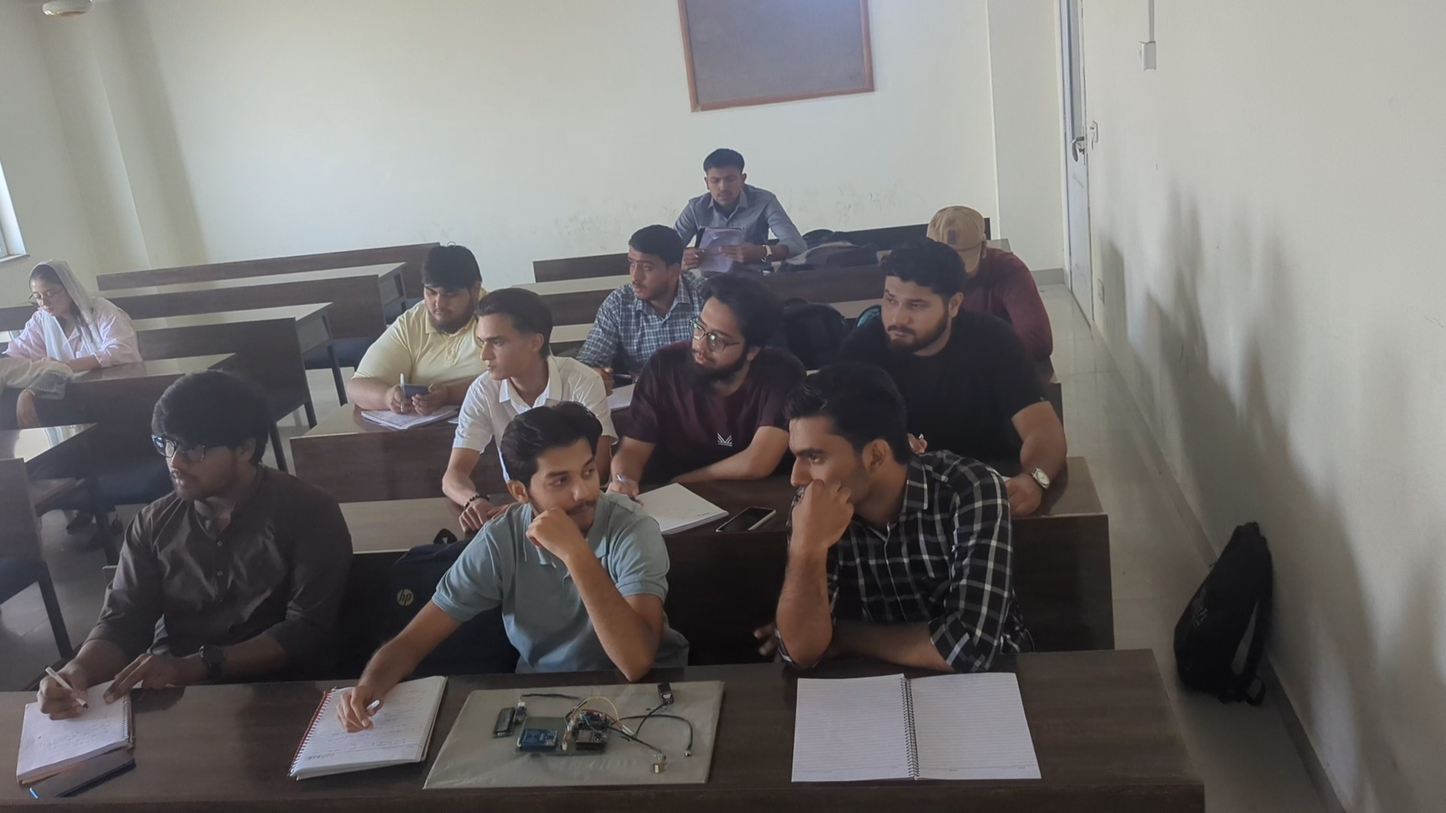look_forward: (778, 363, 1021, 668), (618, 274, 794, 486), (831, 241, 1018, 361), (450, 287, 597, 400), (576, 224, 690, 351)
read: (2, 256, 144, 370), (681, 146, 809, 265)
sleep: (919, 196, 1001, 241)
turn_head: (474, 403, 686, 679)
using_device: (346, 241, 481, 418)
write: (34, 368, 304, 719)
